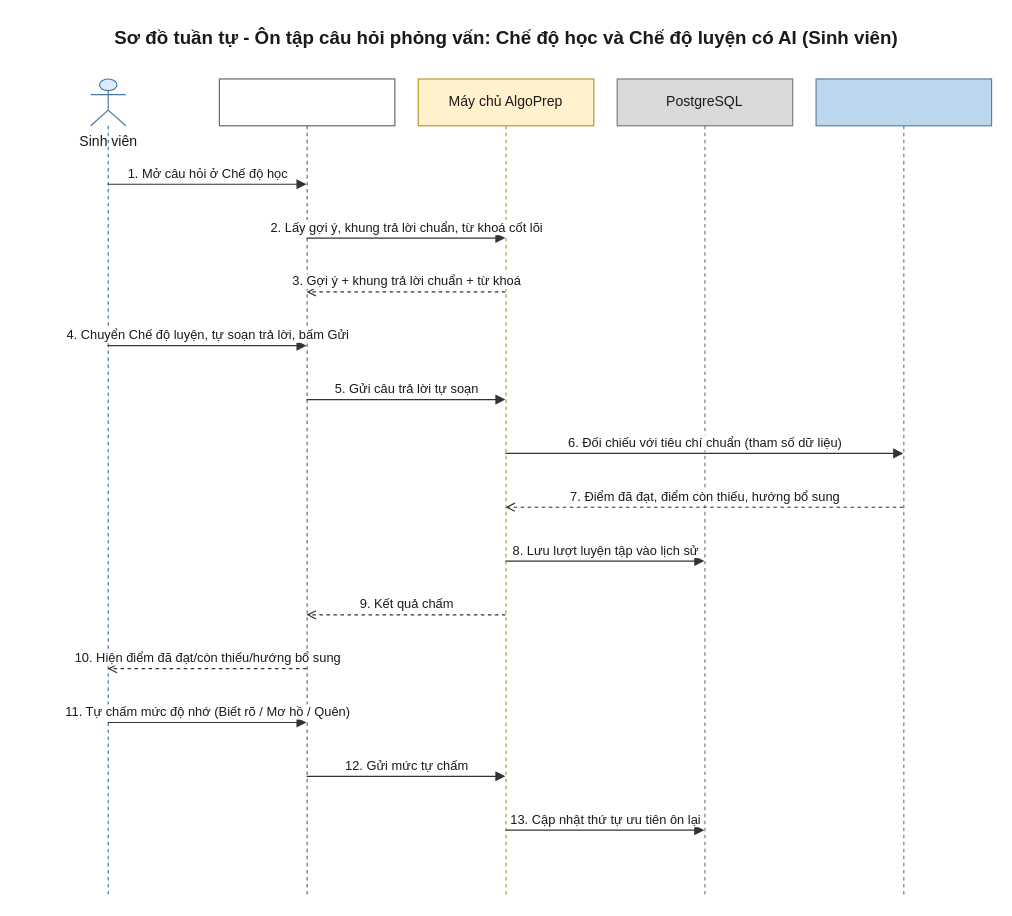
Some shapes in this 1012 by 916 pixel diagram are drawn without their labels. The box of each missing label's shape, as (x1, y1, x2, y2) in pixels:
Màn Chi tiết câu hỏi: (218, 78, 395, 896)
Nhà cung cấp LLM: (815, 78, 992, 896)
